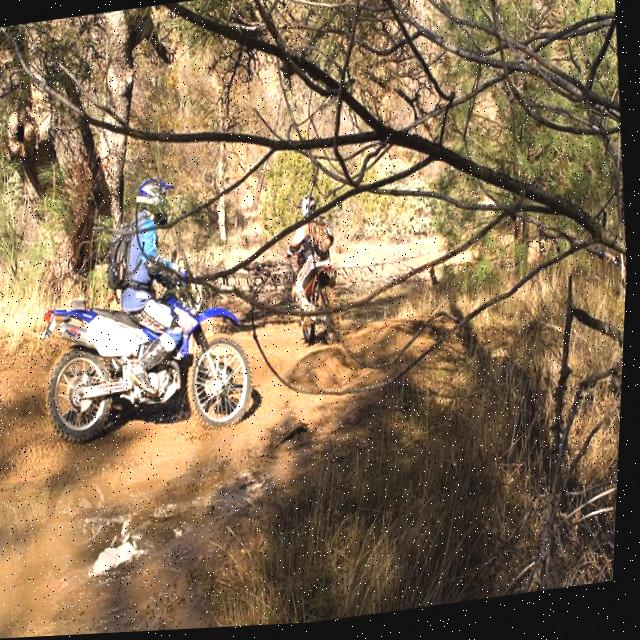motorcycle: (26, 269, 264, 455)
